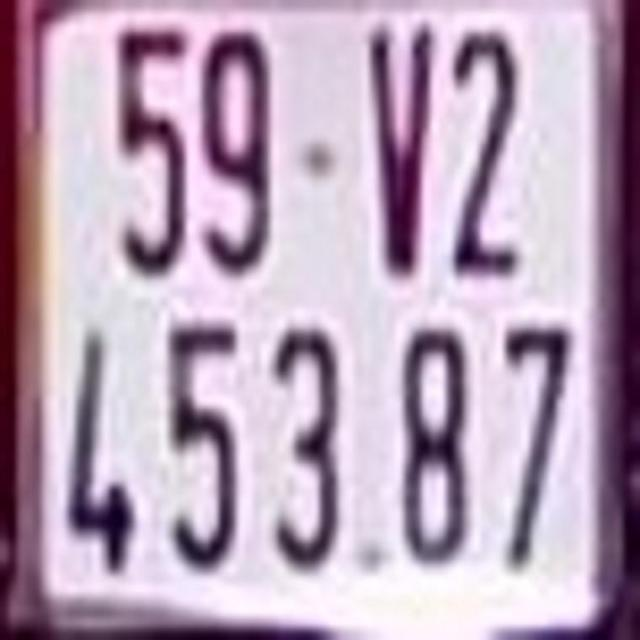2: (457, 26, 522, 281)
3: (269, 322, 342, 569)
4: (67, 326, 136, 566)
5: (163, 320, 245, 568), (114, 30, 188, 272)
7: (503, 325, 572, 562)
8: (403, 333, 469, 562)
9: (202, 32, 268, 266)
V: (370, 20, 432, 287)
